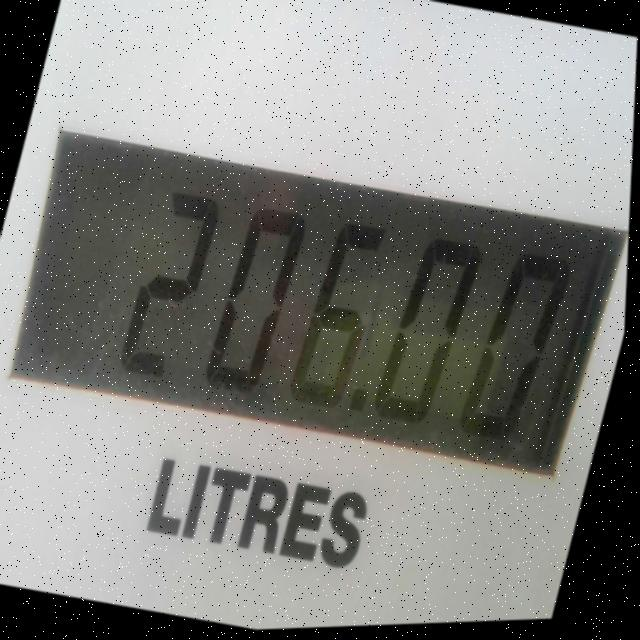.: (336, 374, 390, 451)
0: (192, 181, 325, 433), (448, 238, 585, 468), (362, 222, 495, 437)
2: (86, 164, 245, 403)
6: (275, 201, 408, 438)
